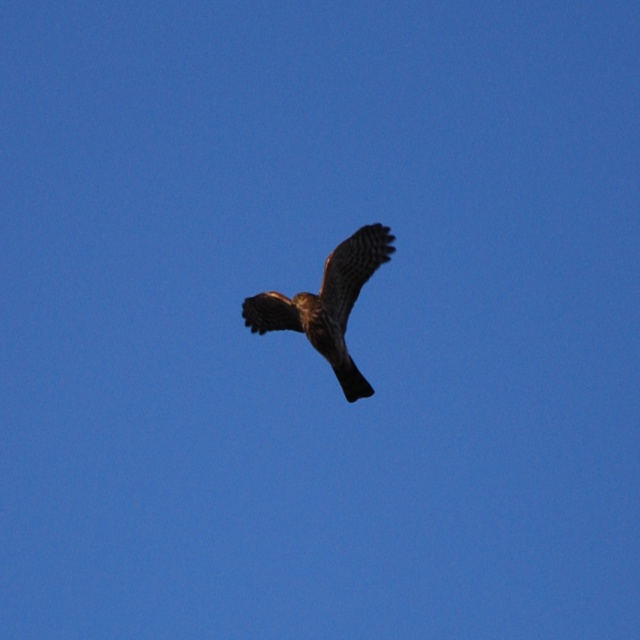Eagle: (240, 216, 404, 413)
